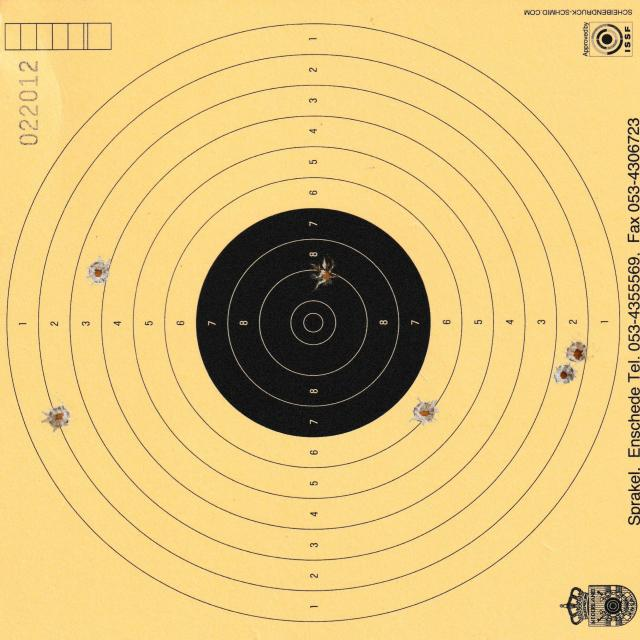2: (39, 399, 74, 434), (562, 340, 589, 365), (552, 362, 578, 385)
4: (82, 255, 113, 289)
6: (407, 396, 441, 430)
9: (305, 252, 343, 292)
Target: (4, 18, 622, 624)
black_contour: (197, 207, 431, 438)
